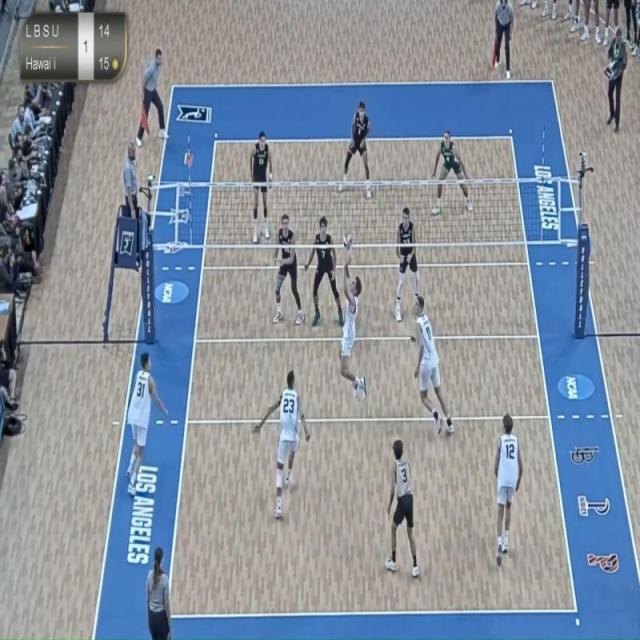volleyball: (340, 229, 355, 253)
